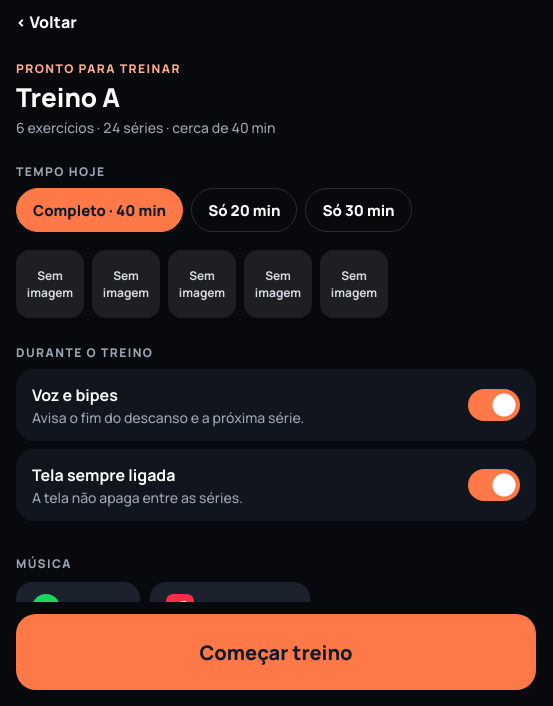
LiveWorkout (FIT-153) › só tenho X min: a preparação oferece uma versão menor sem mudar o programa (EPIC-38)
This screenshot has width=553, height=706.
expect the text "6 exercícios · 24 séries · cerca de 40 min" is shown: met, box [16,118,276,137]
Click the radio button labelled "Só 20 min": coordinates (244, 210) [191,188,298,232]
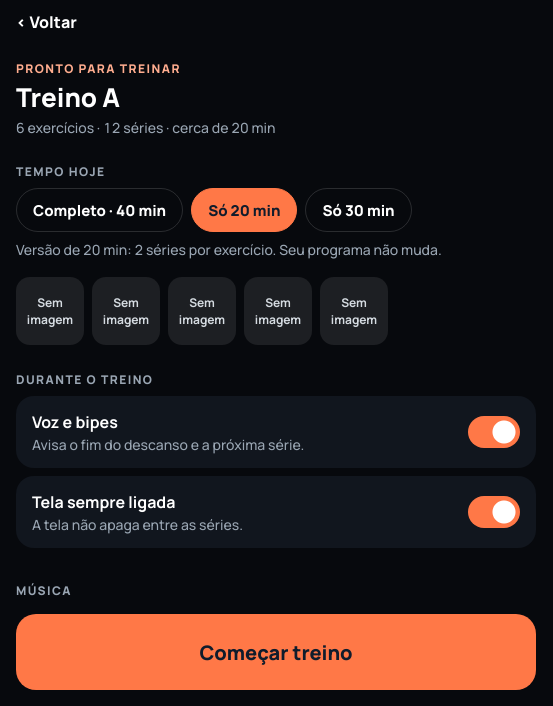
expect the text "6 exercícios · 12 séries · cerca de 20 min" is shown: met, box [16,118,276,137]
expect the text "Versão de 20 min: 2 séries por exercício. Seu programa não muda." is shown: met, box [16,240,442,259]
Click the radio button labelled "Completo · 40 min": coordinates (100, 210) [16,188,183,232]
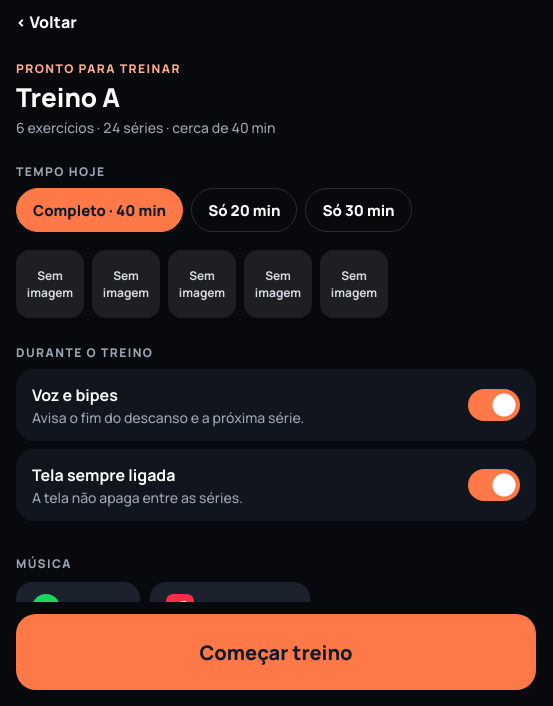
expect the text "6 exercícios · 24 séries · cerca de 40 min" is shown: met, box [16,118,276,137]
